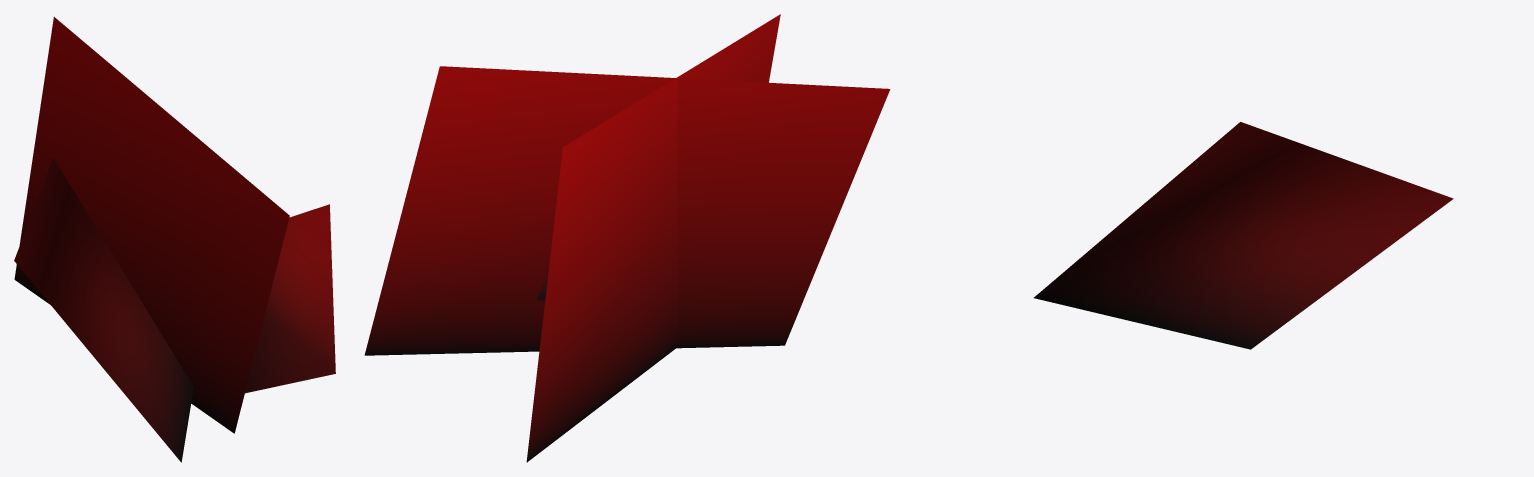
3 renders of one model, left to right at view 1: azimuth 30°, elevation 25°; view 2: azimuth 150°, elevation 25°; view 3: azimuth 270°, elevation 25°, orthographic. The views are drawn at different scales.
Visible parts, largest first — view 1: bladderWrack2.004; view 2: bladderWrack2.004; view 3: bladderWrack2.004.
Part boxes in pixels (<box>): bladderWrack2.004: <box>14,17,335,462</box>; bladderWrack2.004: <box>364,14,890,462</box>; bladderWrack2.004: <box>1034,122,1453,349</box>.
Size of the model in its own units: 2.2 by 1.59 by 2.94.
